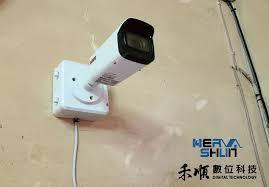Monitor: (67, 16, 190, 131)
